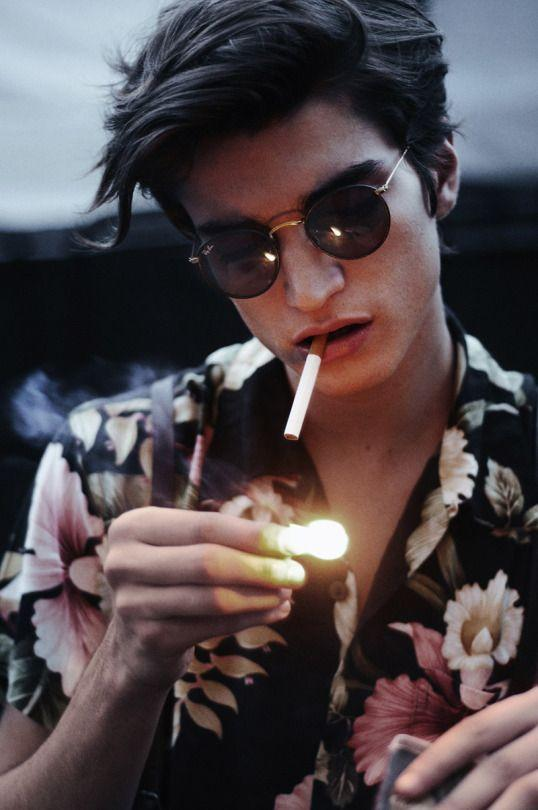cigarette: (284, 334, 329, 441)
